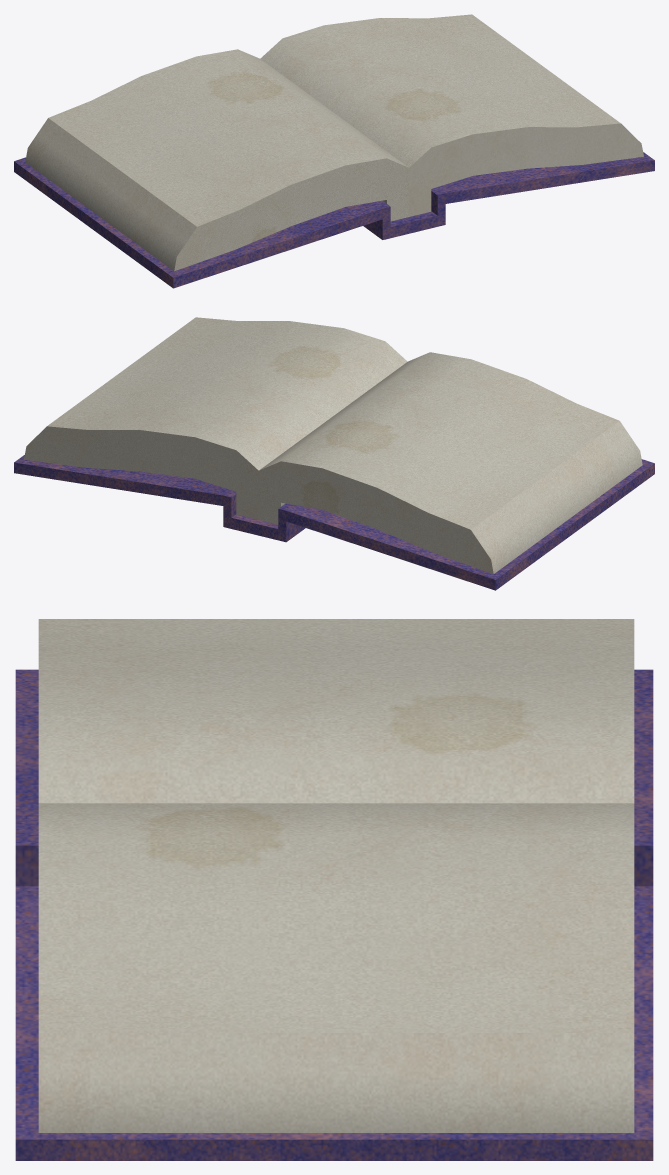
File: openBook3.fbx
3 views of the same model, one above another, from view 1: azimuth 30°, elevation 25°; view 2: azimuth 150°, elevation 25°; view 3: azimuth 270°, elevation 25° (orthographic). The views are drawn at different scales.
Visible parts, largest first — view 1: group7_pCube58; view 2: group7_pCube58; view 3: group7_pCube58.
Boxes of the visible parts, x1=… form: group7_pCube58: x1=14, y1=14, x2=654, y2=288; group7_pCube58: x1=14, y1=317, x2=654, y2=590; group7_pCube58: x1=15, y1=619, x2=653, y2=1160.
Size of the model in its own units: 0.4842 by 0.0752 by 0.2774.
